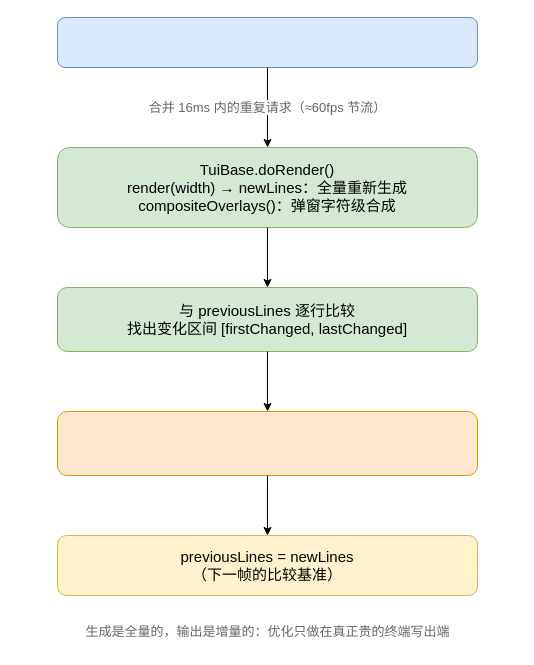
Image size: 534x665. Some labels were removed from this diagram. The box of each missing label's shape, as (x1, y1, x2, y2) in pixels:
只把变化区间的行写给终端 （包在同步输出协议里，原子上屏）: (56, 410, 478, 476)
组件调 requestRender(): (56, 16, 478, 68)
